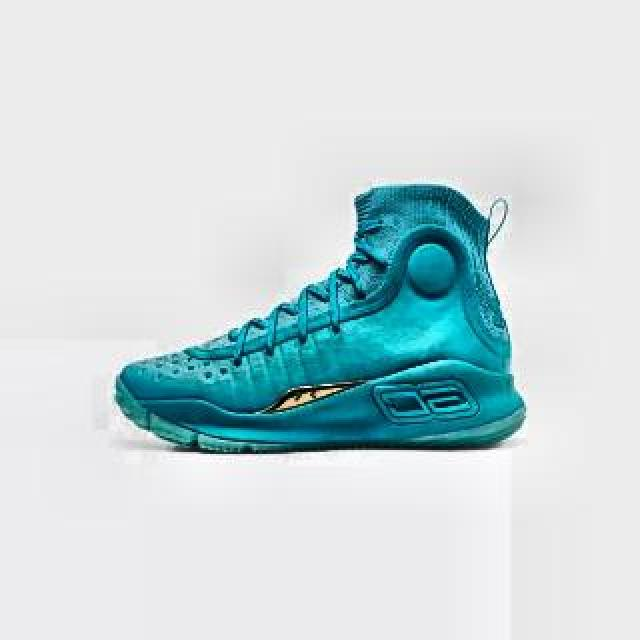shoe: (106, 181, 532, 460), (113, 184, 523, 456)
